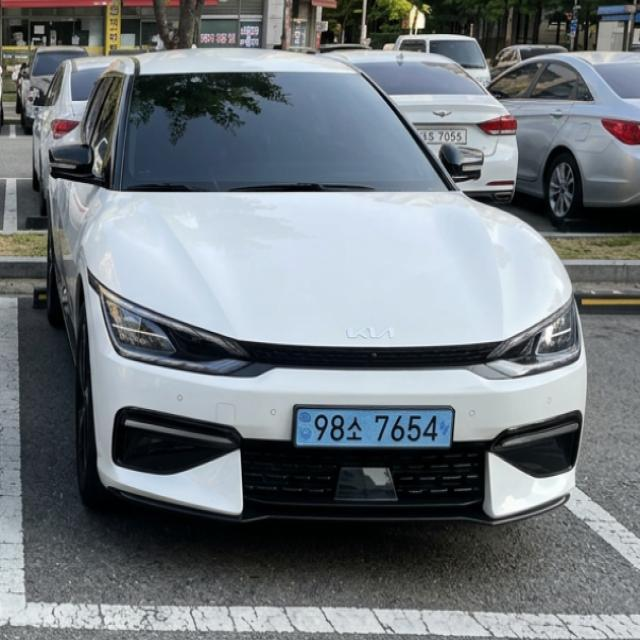car: (282, 395, 468, 459)
carev: (292, 407, 313, 448), (437, 409, 456, 445)
